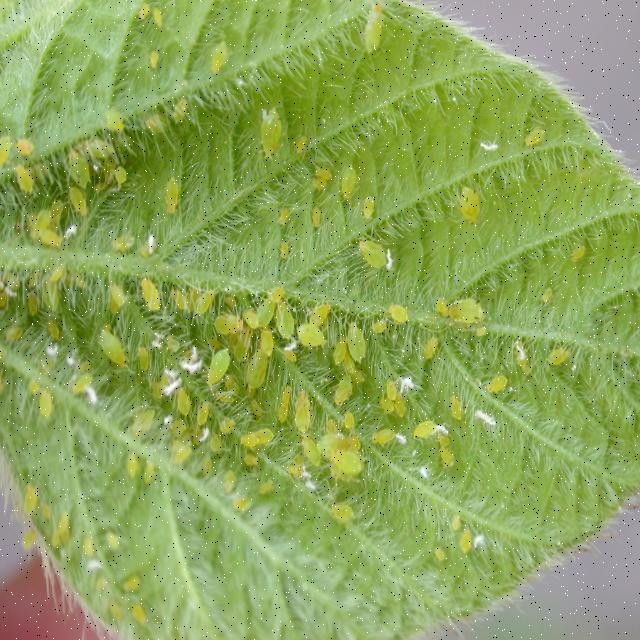Aphids: (296, 431, 371, 492), (240, 95, 295, 165), (346, 227, 398, 288), (448, 181, 495, 239), (151, 168, 195, 220), (286, 381, 321, 446), (106, 218, 145, 275), (338, 318, 373, 376), (293, 316, 334, 360), (132, 231, 172, 275), (200, 342, 234, 384), (248, 298, 283, 334), (254, 326, 282, 364), (263, 286, 286, 311)
